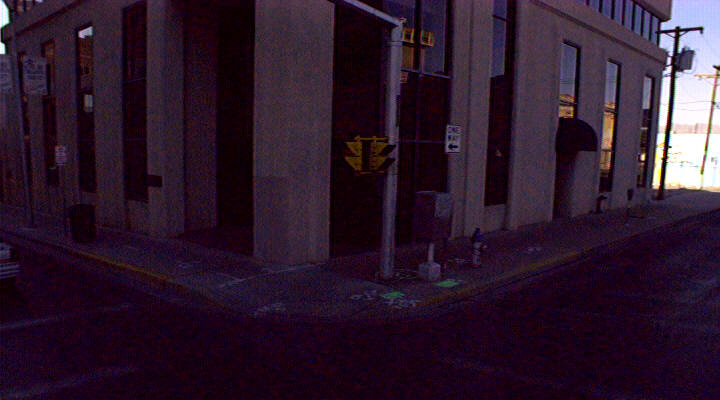Ramp: (187, 258, 416, 336)
